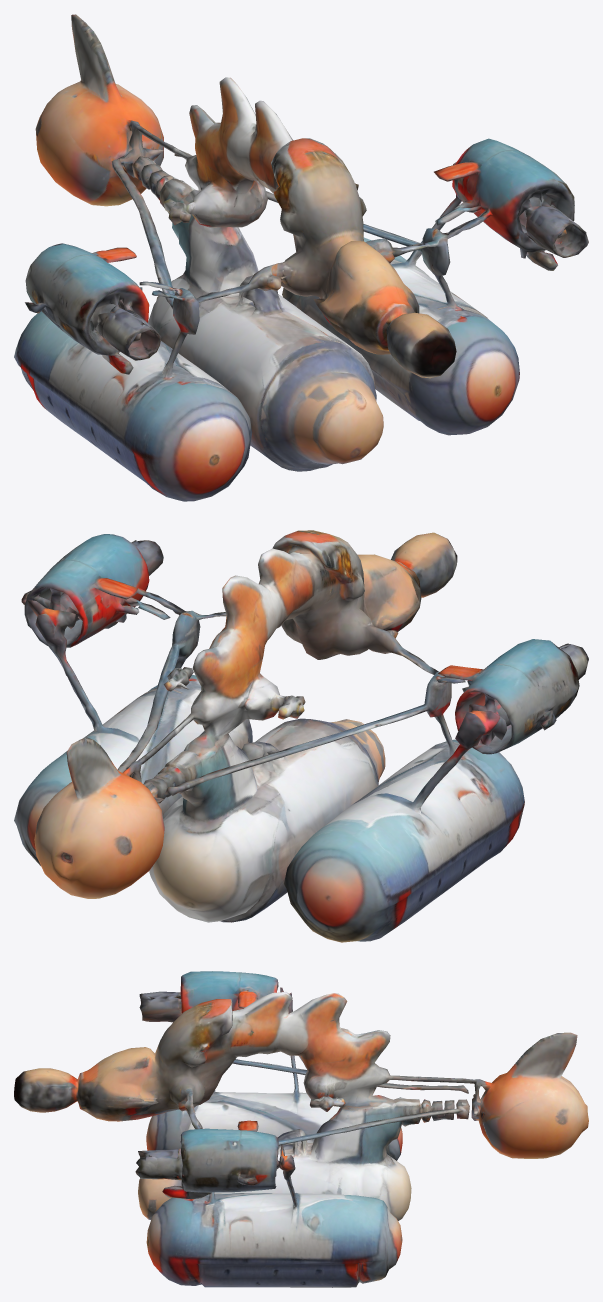
The model's file is Space_Traveler_Advent_0205232100_texture.glb.
3 views of the same model, one above another, from view 1: azimuth 30°, elevation 25°; view 2: azimuth 150°, elevation 25°; view 3: azimuth 270°, elevation 25° (orthographic). The views are drawn at different scales.
Size of the model in its own units: 1.59 by 0.9664 by 2.
Materials: 1 (1 with a texture image).
